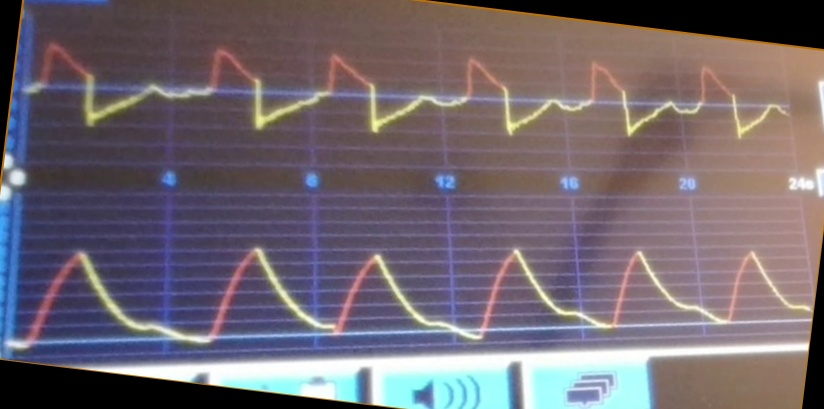Ineffective_effort Flow: (30, 37, 787, 150)
Ineffective_effort Volume: (17, 228, 807, 347)
